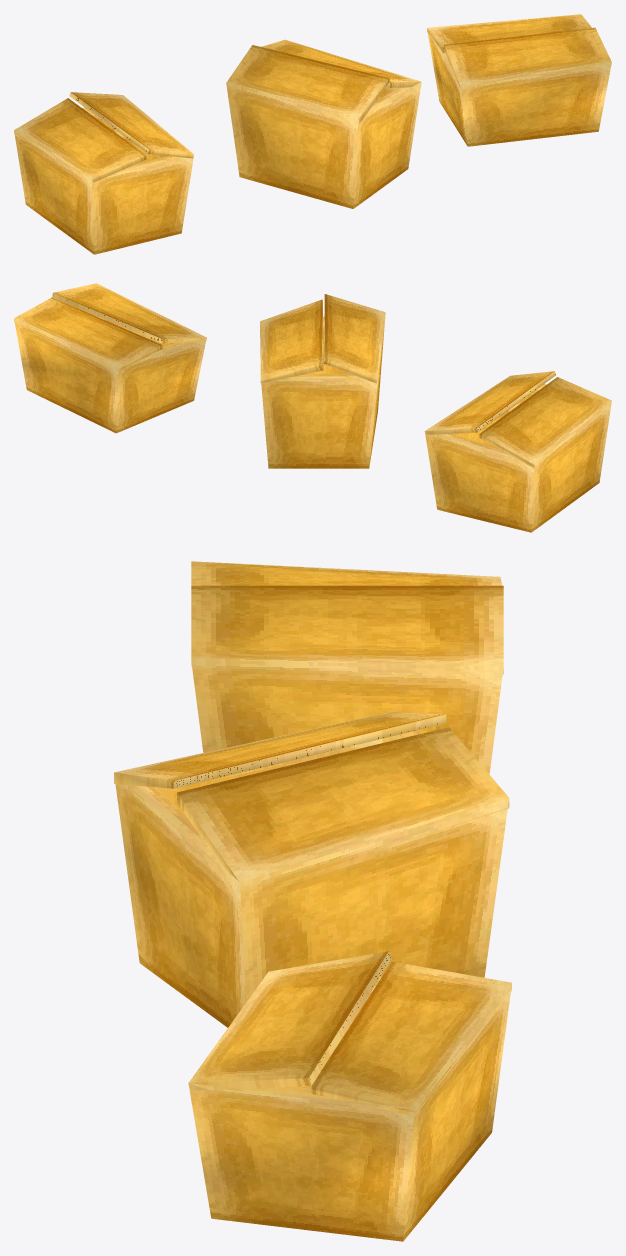
Rendered from o-dan1.glb.
3 renders of one model, top to bottom at view 1: azimuth 30°, elevation 25°; view 2: azimuth 150°, elevation 25°; view 3: azimuth 270°, elevation 25°, orthographic. The views are drawn at different scales.
Visible parts, largest first — view 1: o_dan1; view 2: o_dan1; view 3: o_dan1.
Part boxes in pixels (x1,y1,x2,y2): o_dan1: (14,14,611,254); o_dan1: (14,283,611,532); o_dan1: (114,561,511,1241).
Size of the model in its own units: 437 by 87 by 139.
1 material, 1 textured.
